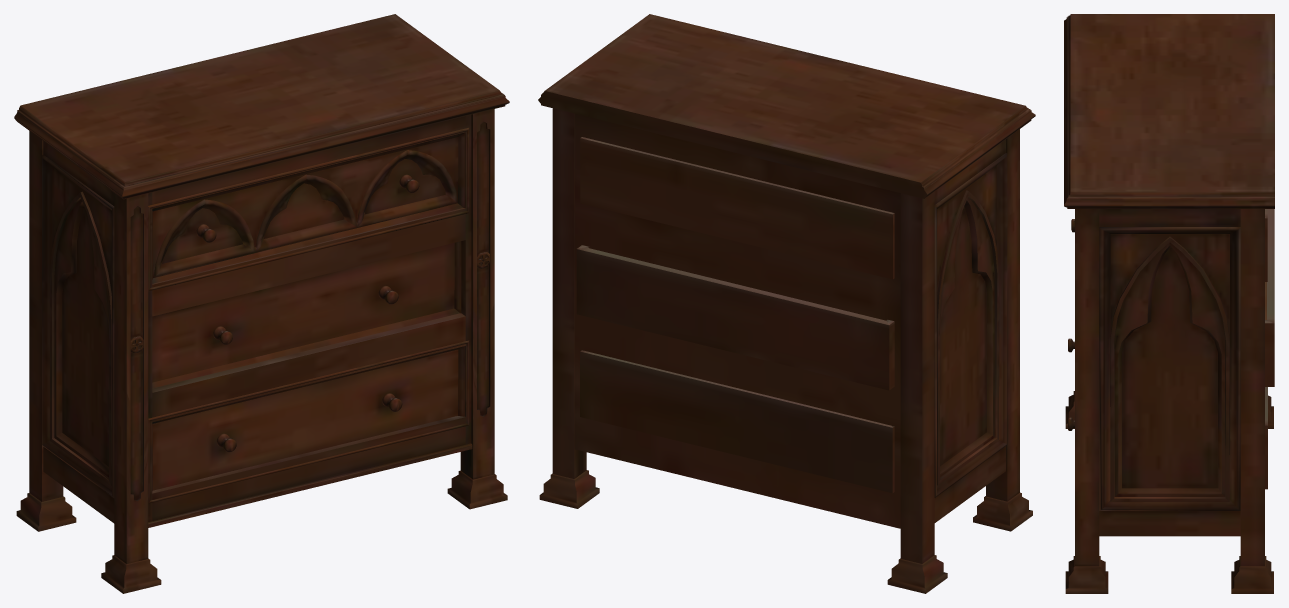
The model's file is commode.glb.
3 renders of one model, left to right at view 1: azimuth 30°, elevation 25°; view 2: azimuth 150°, elevation 25°; view 3: azimuth 270°, elevation 25°, orthographic. The views are drawn at different scales.
Visible parts, largest first — view 1: GothicCommode_01, GothicCommode_01_door01, GothicCommode_01_door03, GothicCommode_01_door02; view 2: GothicCommode_01, GothicCommode_01_door02, GothicCommode_01_door03, GothicCommode_01_door01; view 3: GothicCommode_01, GothicCommode_01_door02, GothicCommode_01_door03.
Boxes of the visible parts, box(x1,y1,x2,y2) form: GothicCommode_01: box(14, 14, 509, 593); GothicCommode_01_door01: box(148, 127, 469, 291); GothicCommode_01_door03: box(148, 340, 469, 503); GothicCommode_01_door02: box(152, 241, 461, 388); GothicCommode_01: box(538, 14, 1035, 593); GothicCommode_01_door02: box(576, 245, 894, 390); GothicCommode_01_door03: box(580, 350, 894, 493); GothicCommode_01_door01: box(580, 137, 894, 279); GothicCommode_01: box(1064, 14, 1274, 593); GothicCommode_01_door02: box(1265, 209, 1274, 386); GothicCommode_01_door03: box(1068, 338, 1267, 489).
Bounding box in the file's own units: 1.2 × 1.21 × 0.5806.
Materials: 1 (1 with a texture image).
